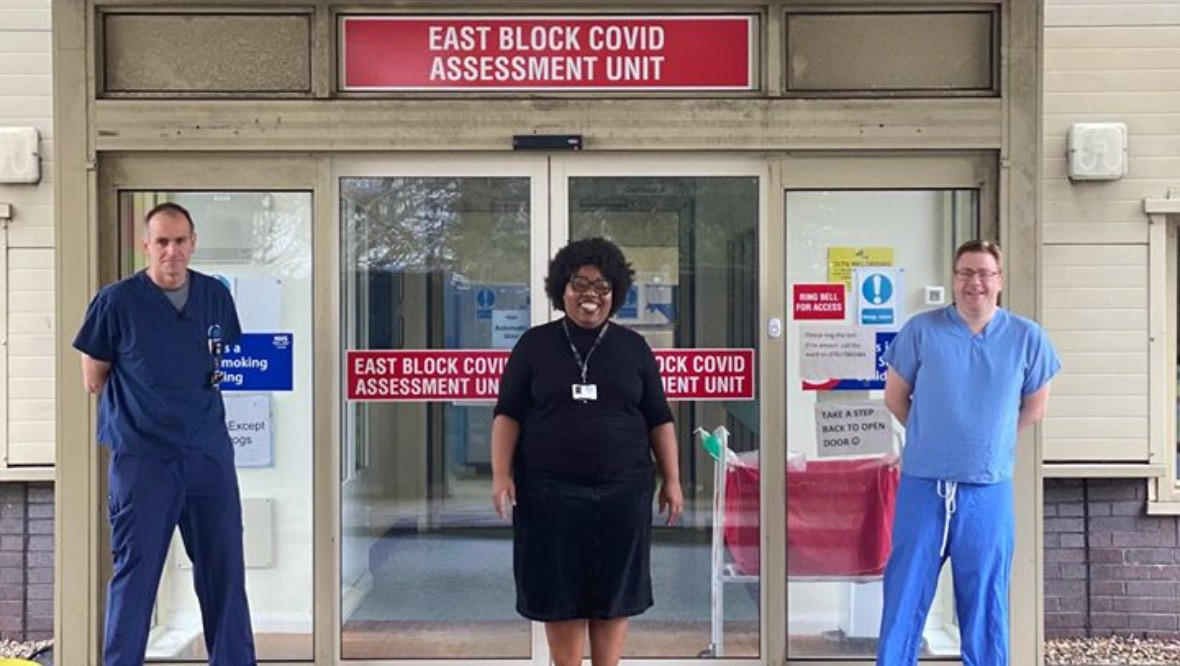Caution: (74, 197, 687, 666), (485, 232, 1062, 666)
